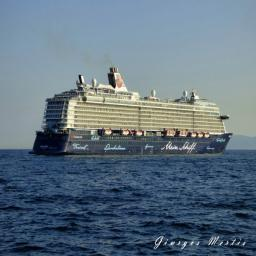cruises: (27, 64, 235, 160)
